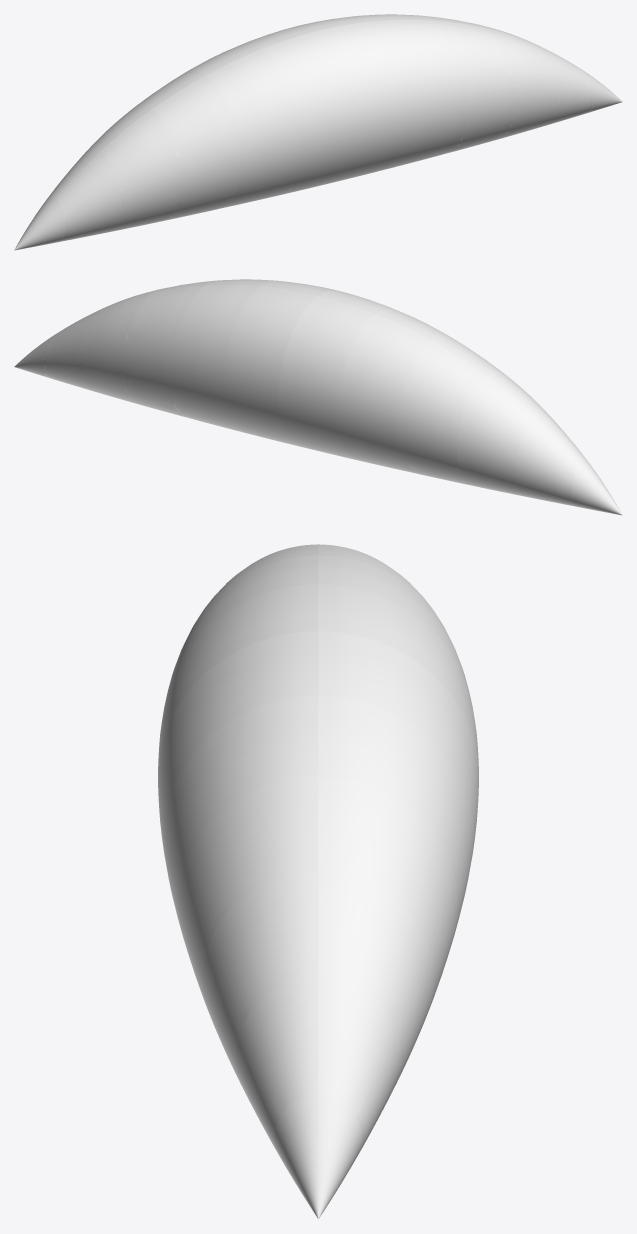
The model's file is Letrero.obj.
3 renders of one model, top to bottom at view 1: azimuth 30°, elevation 25°; view 2: azimuth 150°, elevation 25°; view 3: azimuth 270°, elevation 25°, orthographic. The views are drawn at different scales.
Parts seen in each view (by area): view 1: Letrero021, Letrero022, Letrero011, Letrero023, Letrero007, Letrero001, Letrero010, Letrero009, Letrero002, Letrero016, Letrero004, Letrero019 (+7 smaller); view 2: Letrero020, Letrero018, Letrero013, Letrero019, Letrero006, Letrero003, Letrero008, Letrero012, Letrero, Letrero014, Letrero005, Letrero023 (+7 smaller); view 3: Letrero008, Letrero010, Letrero006, Letrero007, Letrero009, Letrero012, Letrero011, Letrero013, Letrero014, Letrero016, Letrero020, Letrero021 (+6 smaller).
Boxes of the visible parts, left/top/right/bottom form: Letrero021: left=261, top=30, right=358, bottom=194; Letrero022: left=205, top=49, right=299, bottom=207; Letrero011: left=319, top=21, right=414, bottom=181; Letrero023: left=151, top=76, right=239, bottom=220; Letrero007: left=376, top=19, right=466, bottom=166; Letrero001: left=101, top=110, right=179, bottom=231; Letrero010: left=432, top=20, right=514, bottom=152; Letrero009: left=486, top=28, right=556, bottom=138; Letrero002: left=55, top=151, right=121, bottom=241; Letrero016: left=537, top=45, right=592, bottom=124; Letrero004: left=14, top=198, right=65, bottom=250; Letrero019: left=135, top=71, right=204, bottom=109; Letrero020: left=278, top=295, right=375, bottom=459; Letrero018: left=337, top=314, right=431, bottom=472; Letrero013: left=222, top=286, right=317, bottom=446; Letrero019: left=397, top=341, right=485, bottom=485; Letrero006: left=170, top=284, right=260, bottom=431; Letrero003: left=457, top=375, right=535, bottom=496; Letrero008: left=122, top=285, right=204, bottom=417; Letrero012: left=80, top=293, right=150, bottom=403; Letrero: left=515, top=416, right=581, bottom=506; Letrero014: left=44, top=310, right=99, bottom=389; Letrero005: left=571, top=463, right=622, bottom=515; Letrero023: left=432, top=336, right=501, bottom=374; Letrero008: left=318, top=776, right=458, bottom=1008; Letrero010: left=178, top=776, right=318, bottom=1008; Letrero006: left=318, top=696, right=473, bottom=933; Letrero007: left=163, top=696, right=318, bottom=933; Letrero009: left=202, top=871, right=318, bottom=1085; Letrero012: left=318, top=871, right=434, bottom=1085; Letrero011: left=158, top=631, right=318, bottom=852; Letrero013: left=318, top=631, right=478, bottom=852; Letrero014: left=318, top=978, right=401, bottom=1154; Letrero016: left=235, top=978, right=318, bottom=1154; Letrero020: left=318, top=584, right=478, bottom=770; Letrero021: left=158, top=584, right=318, bottom=770.
Bounding box in the file's own units: 12.98 × 2.97 × 2.97.
Materials: 1 (1 with a texture image).
